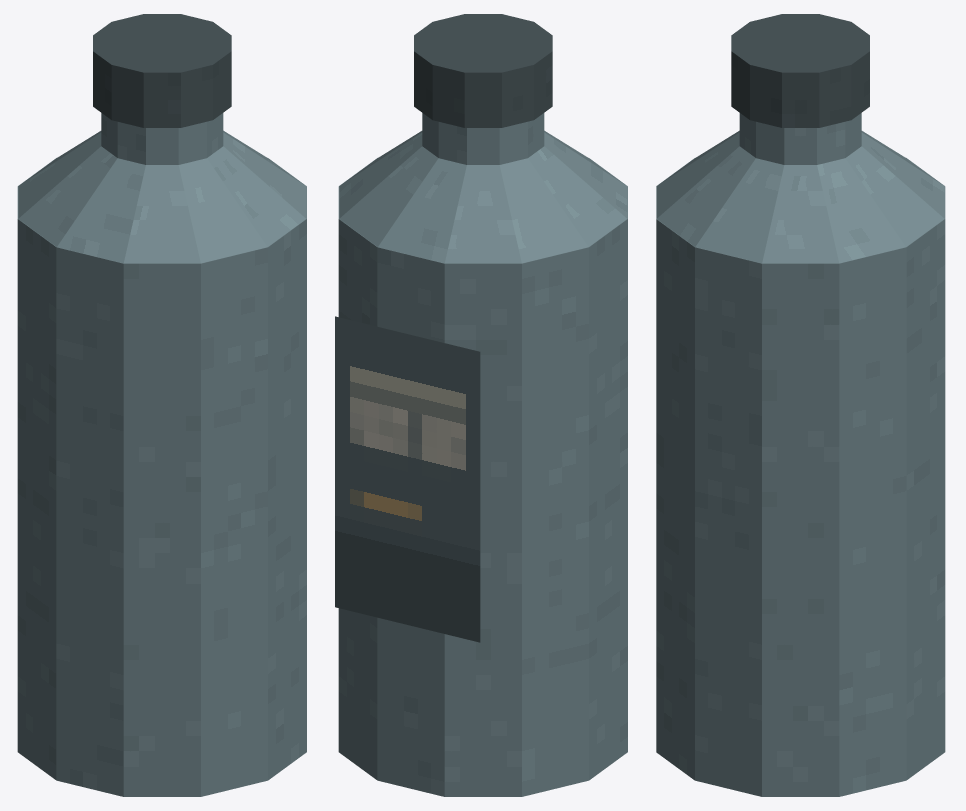
The model's file is honey_bottled.glb.
3 renders of one model, left to right at view 1: azimuth 30°, elevation 25°; view 2: azimuth 150°, elevation 25°; view 3: azimuth 270°, elevation 25°, orthographic.
Parts seen in each view (by area): view 1: block_bottle body, block_shoulder, block_ribbed closure, block_neck; view 2: block_bottle body, block_label, block_shoulder, block_ribbed closure, block_neck; view 3: block_bottle body, block_shoulder, block_ribbed closure, block_neck.
Boxes of the visible parts, x1,y1,x2,y2 form: block_bottle body: (17, 158, 306, 796); block_shoulder: (18, 130, 306, 263); block_ribbed closure: (93, 14, 231, 127); block_neck: (101, 113, 223, 164); block_bottle body: (338, 158, 627, 796); block_label: (335, 316, 480, 642); block_shoulder: (339, 130, 627, 263); block_ribbed closure: (414, 14, 552, 127); block_neck: (422, 113, 544, 164); block_bottle body: (656, 158, 945, 796); block_shoulder: (656, 130, 944, 263); block_ribbed closure: (731, 14, 869, 127); block_neck: (739, 113, 861, 164).
Bounding box in the file's own units: 0.0541 × 0.143 × 0.0553.
1 material, 1 textured.
